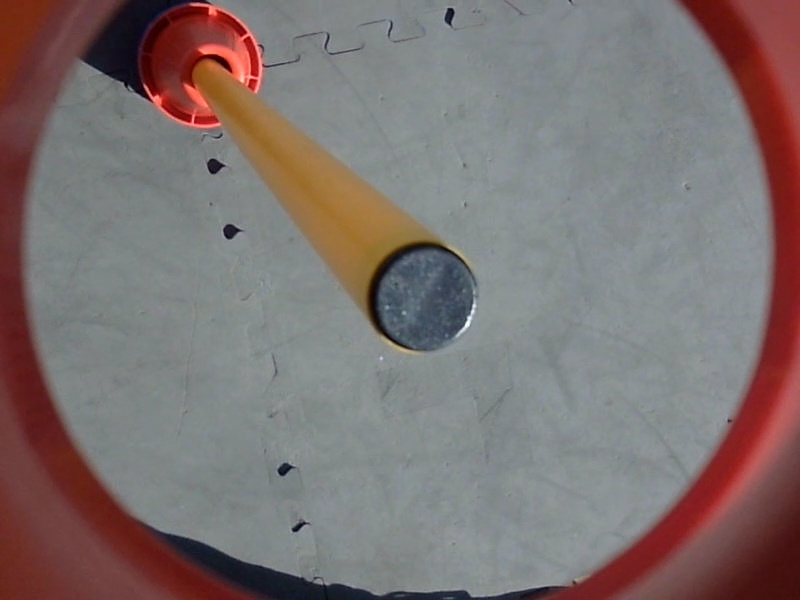tip: (360, 228, 481, 357)
